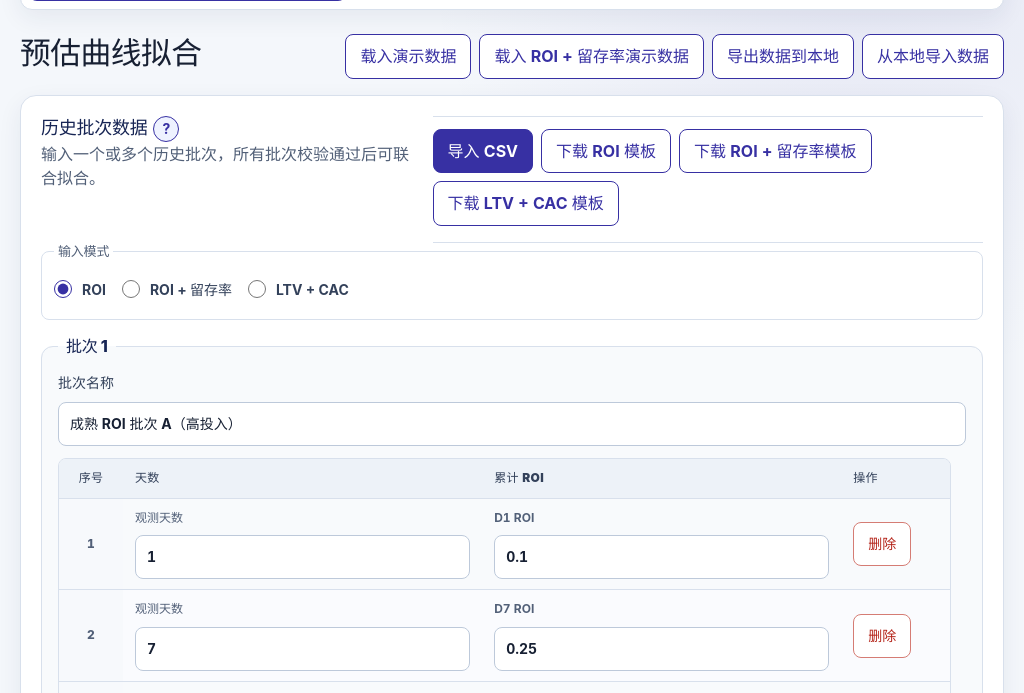
Test: historical cohort input › starts with an empty status and reports demo data only after explicit loading
Expected: the text "拟合结果" is not shown
What coordinates should you click on to do the following:
click the button "载入演示数据"
I would click on:
 (408, 56)
Its box is [345, 34, 471, 79].
(page scrolled)
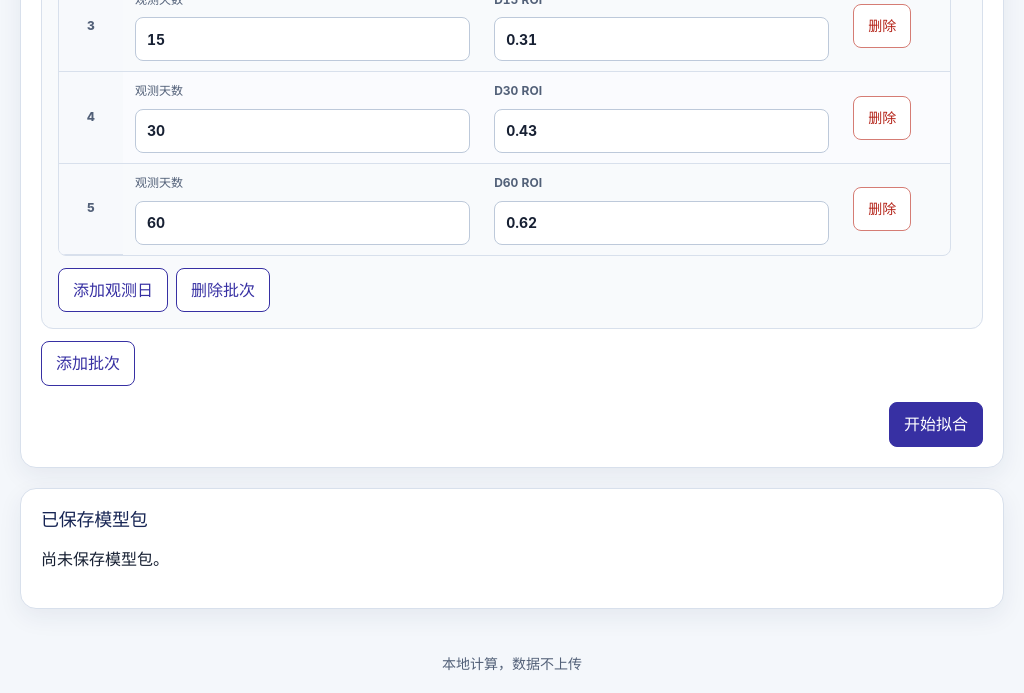
What coordinates should you click on to do the following:
click the button "开始拟合"
I would click on:
 (936, 424)
Its box is [889, 402, 983, 447].
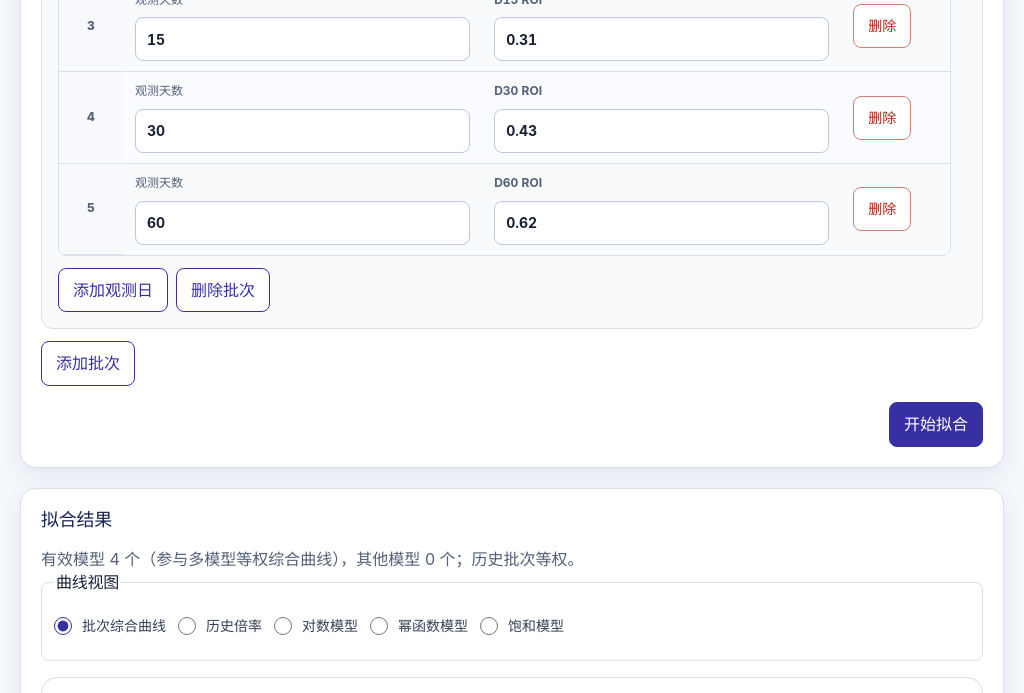
Result: the heading "拟合结果" is shown at [41, 509, 112, 530]
